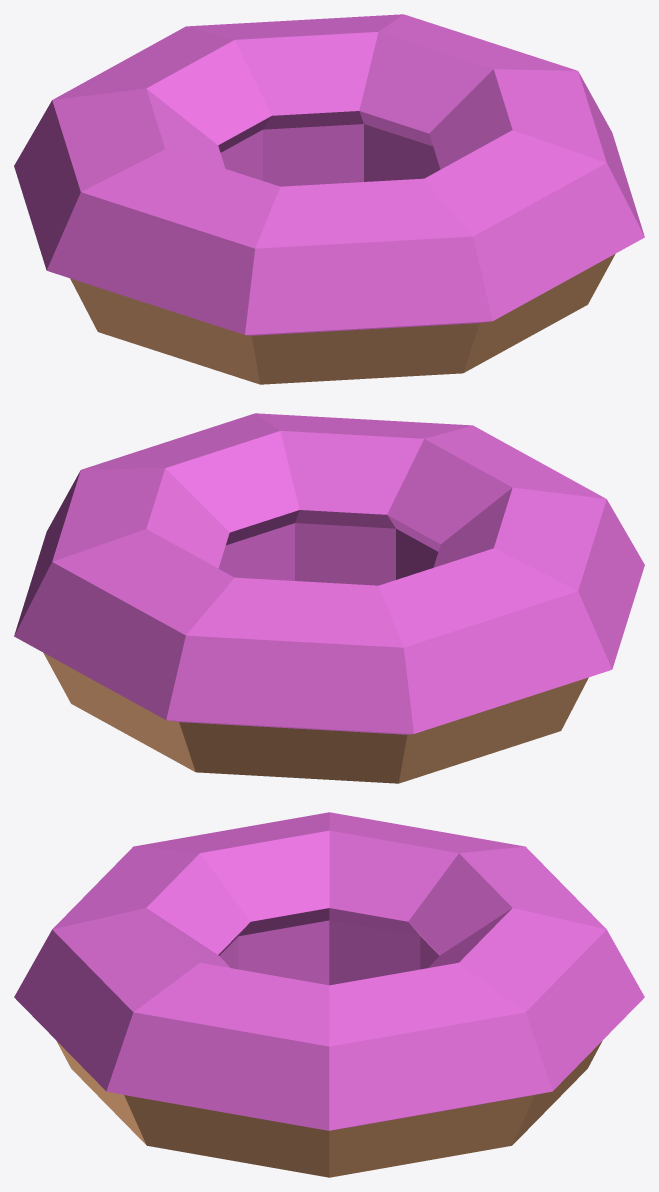
Rendered from donut.glb.
3 renders of one model, top to bottom at view 1: azimuth 30°, elevation 25°; view 2: azimuth 150°, elevation 25°; view 3: azimuth 270°, elevation 25°, orthographic. The views are drawn at different scales.
Visible parts, largest first — view 1: Torus; view 2: Torus; view 3: Torus.
Part boxes in pixels (x1=…): Torus: x1=14, y1=14, x2=644, y2=384; Torus: x1=14, y1=413, x2=644, y2=783; Torus: x1=14, y1=812, x2=644, y2=1177.
Bounding box in the file's own units: 0.5845 × 0.1793 × 0.5845.
